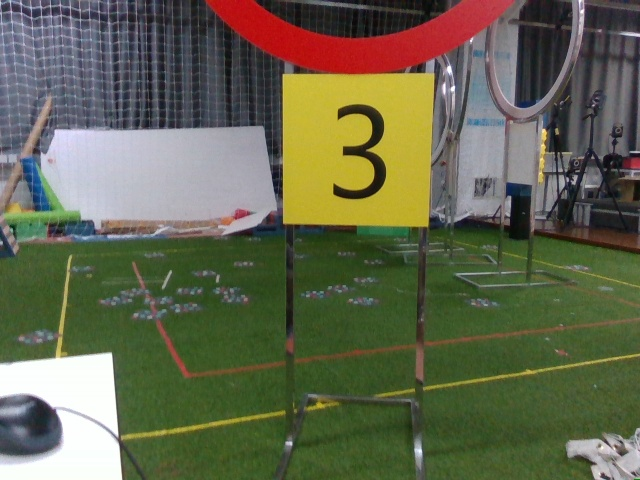target: (282, 75, 432, 225)
